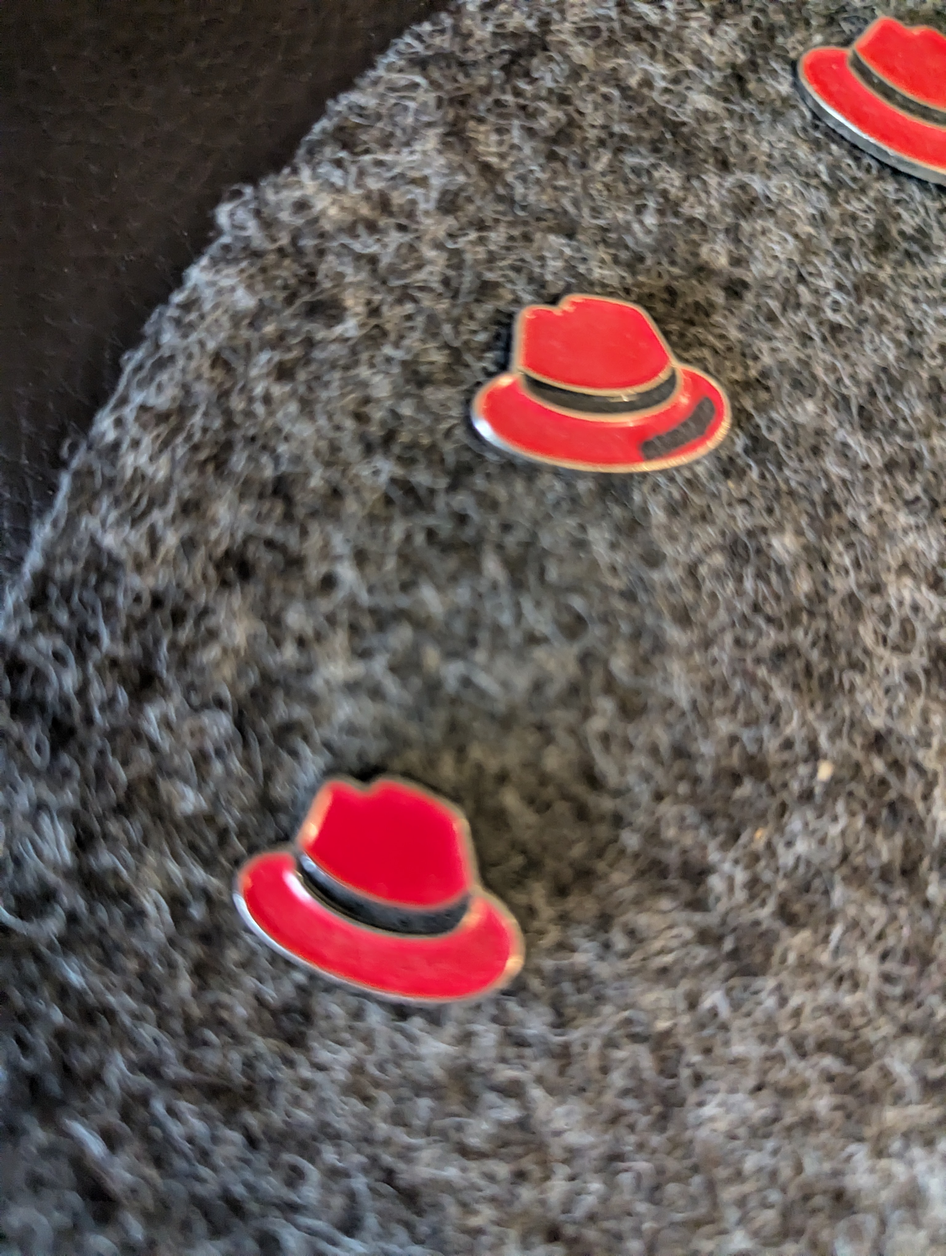Red-Hat: (210, 735, 571, 1026), (452, 254, 759, 518), (775, 3, 946, 197)
Scratch: (620, 387, 757, 463)
